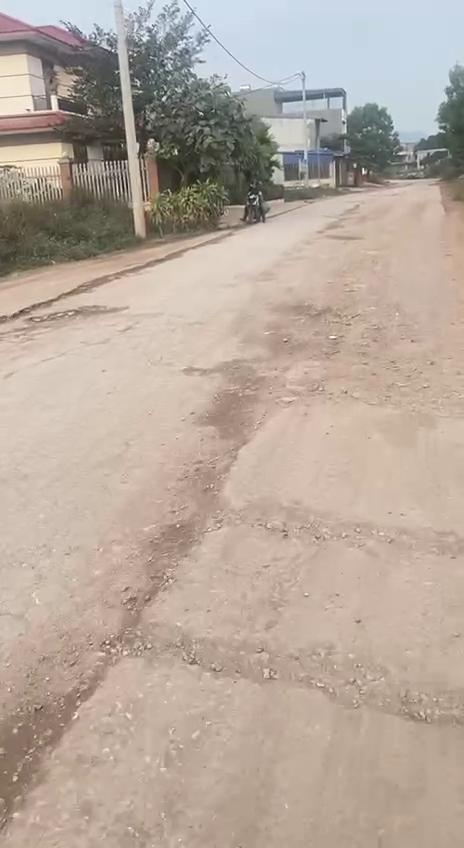pothole: (100, 595, 464, 734), (180, 476, 464, 576), (190, 348, 300, 440), (290, 294, 356, 354), (30, 302, 118, 329)
